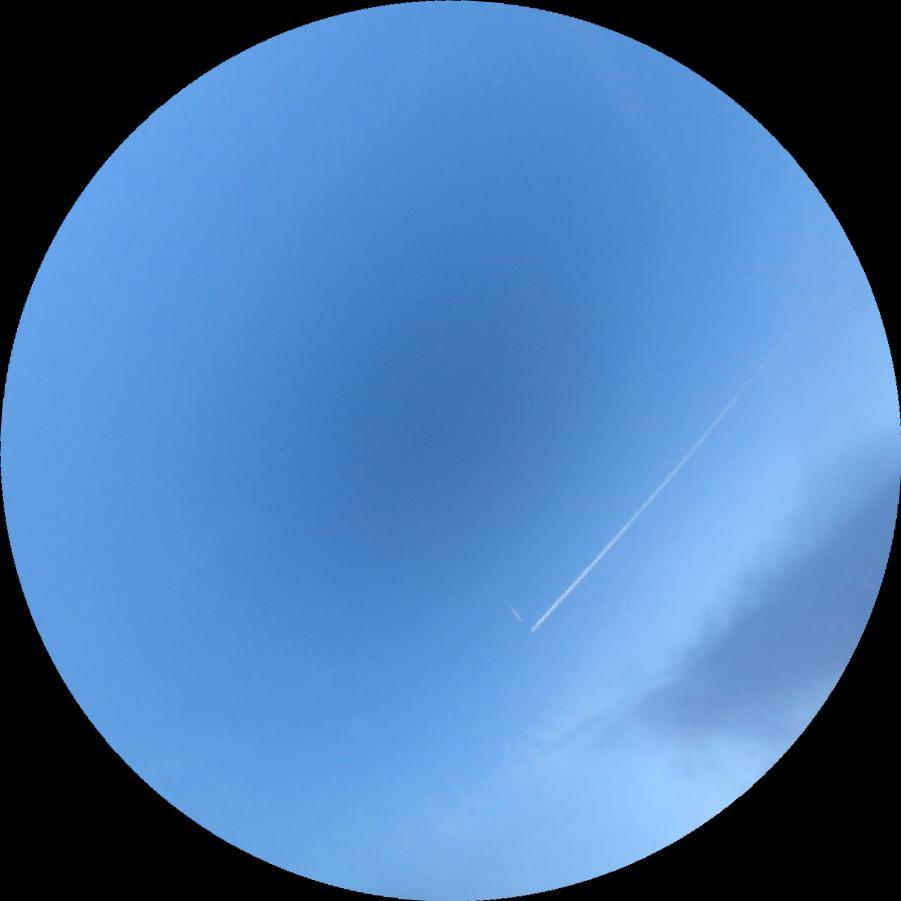contrail old: (527, 302, 819, 637)
unknow: (276, 440, 303, 458), (508, 605, 525, 624)
